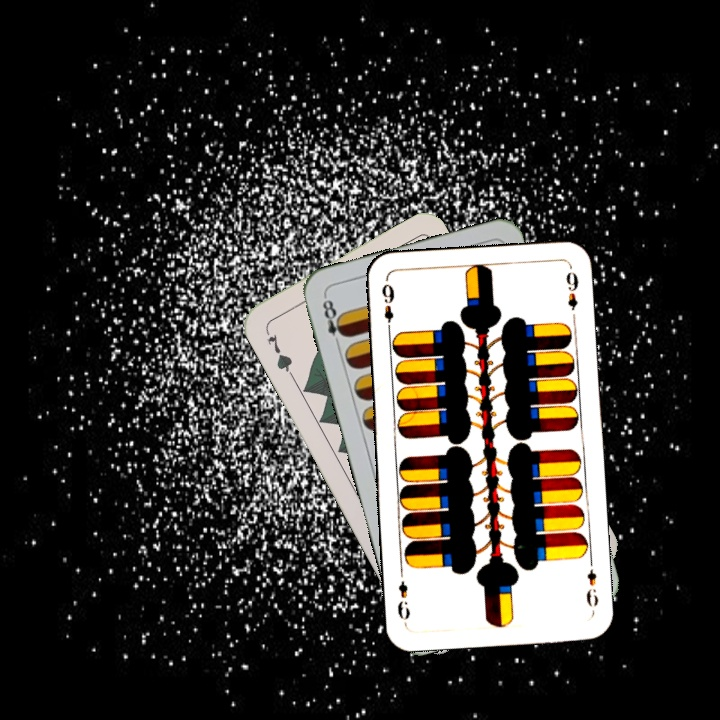E8: (318, 292, 349, 351)
E9: (377, 279, 397, 336), (582, 565, 601, 609)
G7: (261, 324, 296, 378)
